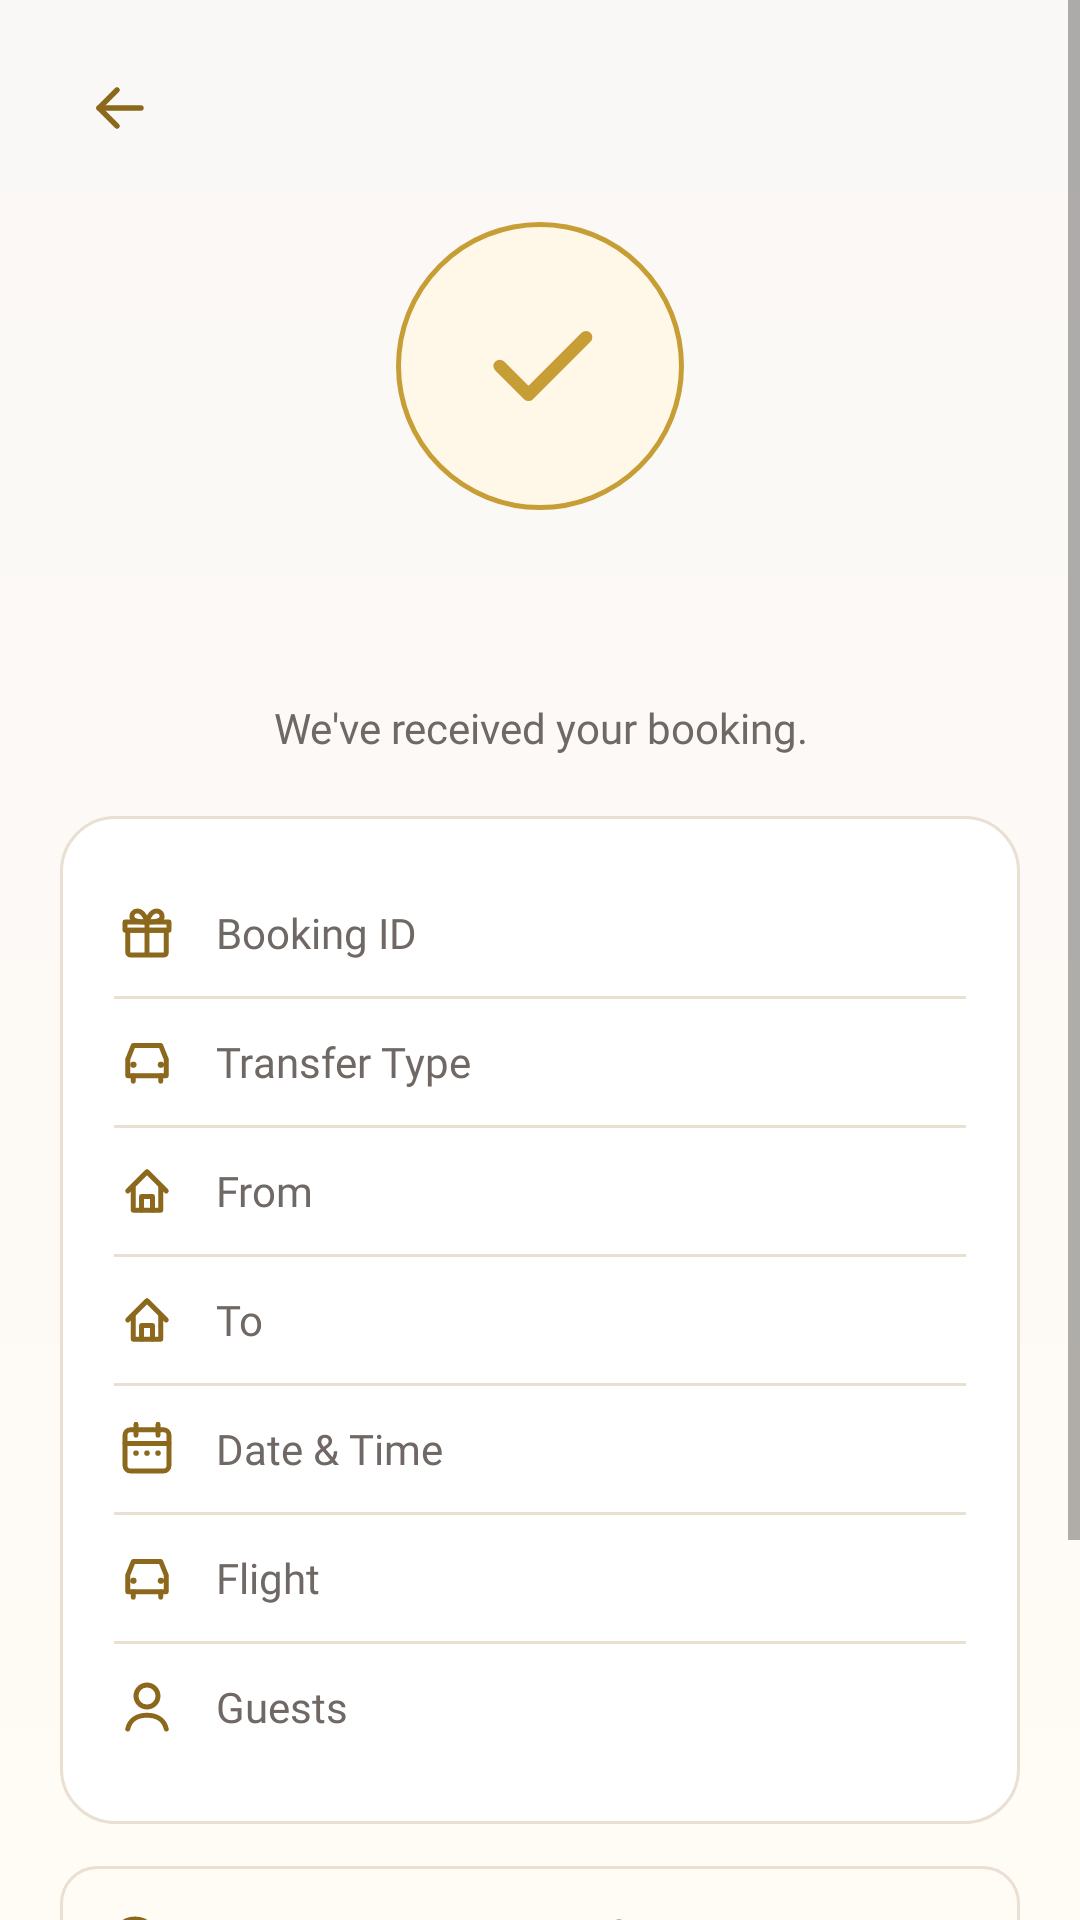

Icon bounding boxes for this 1080w x 1920h phone screenshot, format {"x1": x1, "y1": y1, "x2": x2, "y2": y2}:
arrowleft: {"x1": 96, "y1": 87, "x2": 144, "y2": 129}
calendar: {"x1": 122, "y1": 1422, "x2": 172, "y2": 1474}
check: {"x1": 493, "y1": 331, "x2": 593, "y2": 401}
gift: {"x1": 122, "y1": 908, "x2": 172, "y2": 958}
home: {"x1": 125, "y1": 1169, "x2": 169, "y2": 1213}, {"x1": 125, "y1": 1298, "x2": 169, "y2": 1342}
profile: {"x1": 125, "y1": 1682, "x2": 169, "y2": 1732}
